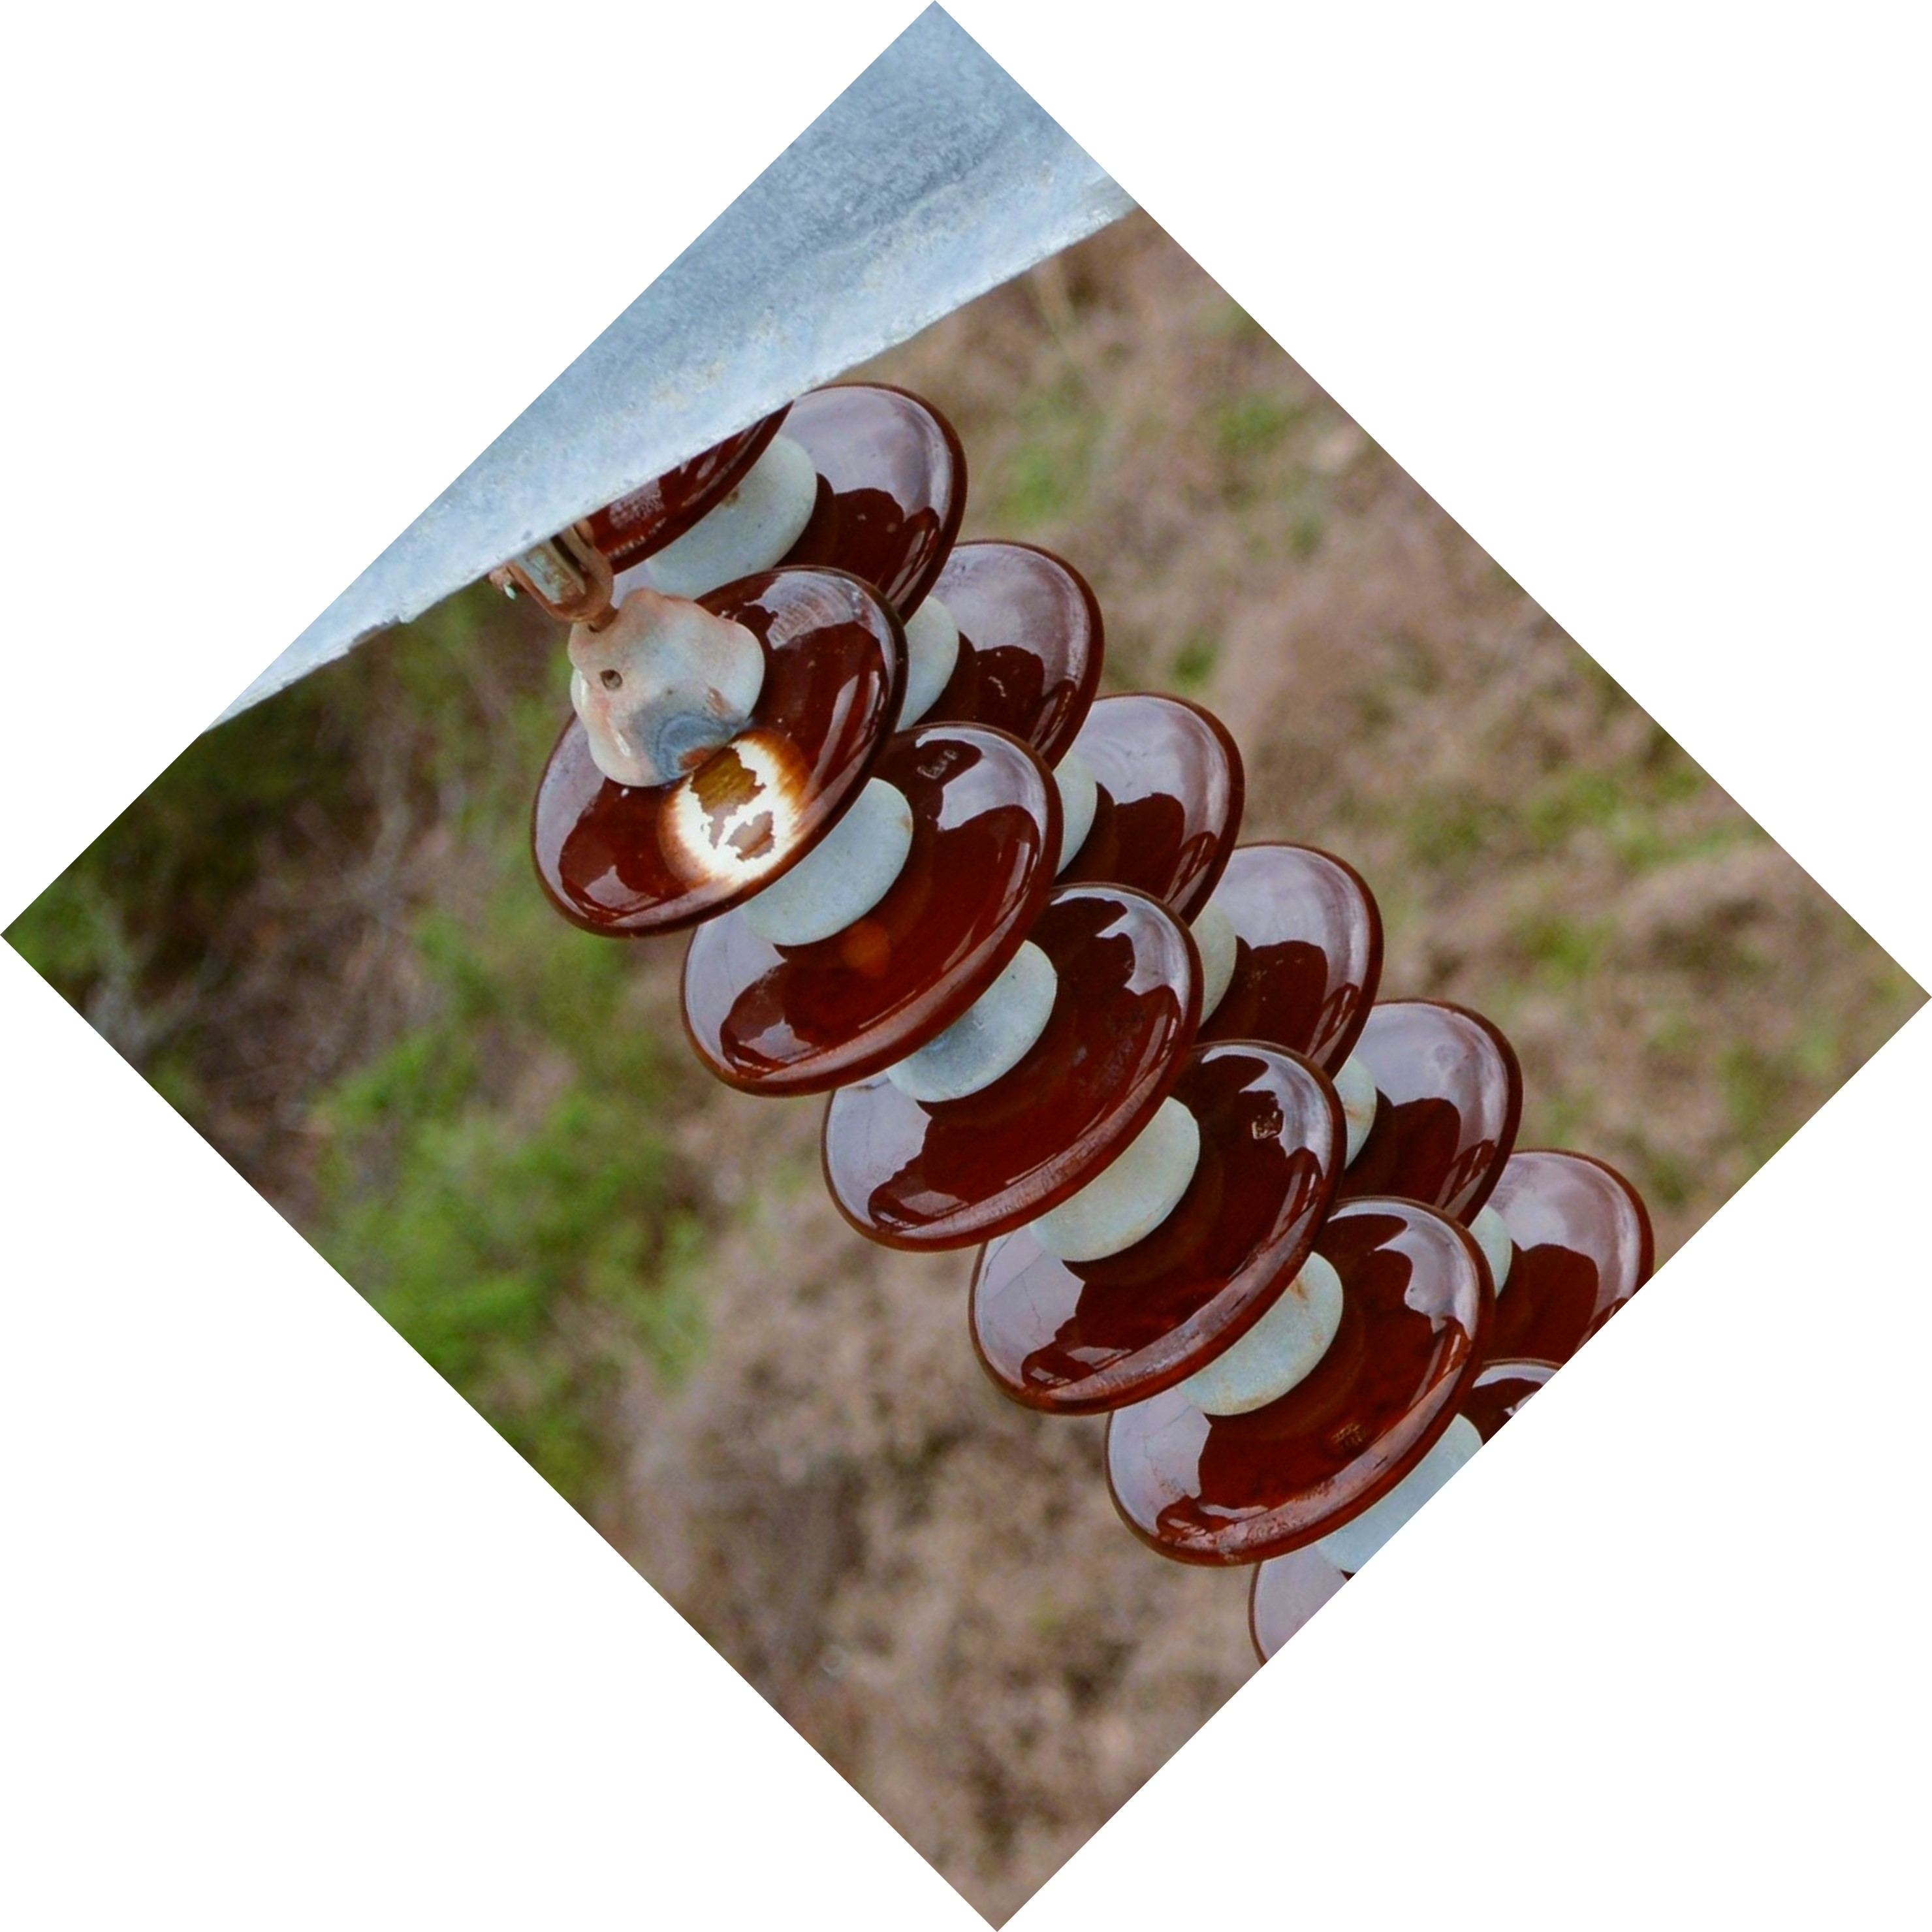Insulator flashover: (518, 556, 913, 948)
